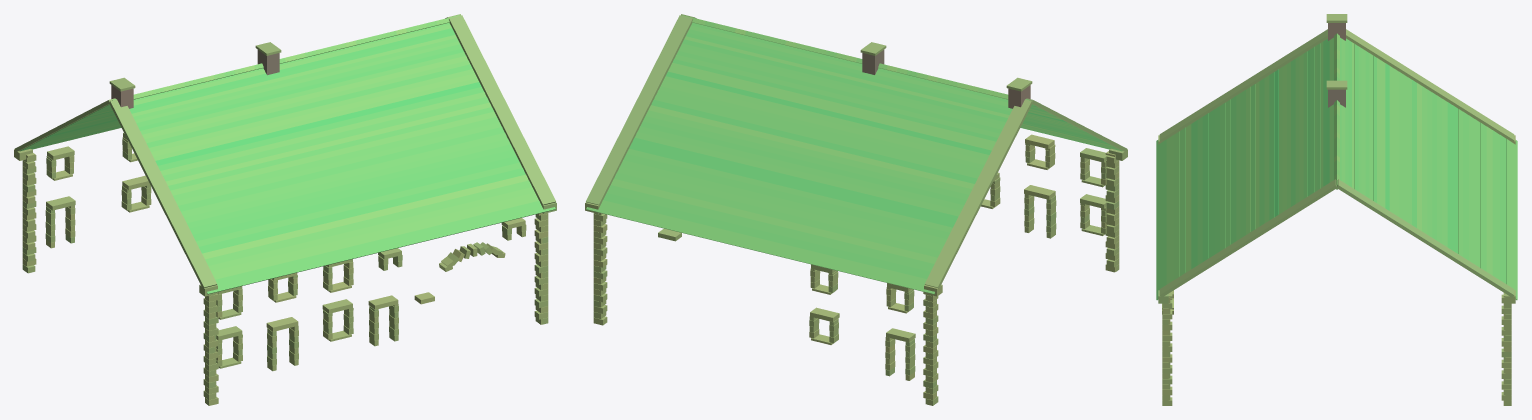
The model's file is SM_Bld_023_Stone.glb.
3 renders of one model, left to right at view 1: azimuth 30°, elevation 25°; view 2: azimuth 150°, elevation 25°; view 3: azimuth 270°, elevation 25°, orthographic. The views are drawn at different scales.
Visible parts, largest first — view 1: SM_Bld_023_Stone; view 2: SM_Bld_023_Stone; view 3: SM_Bld_023_Stone.
Part boxes in pixels (<box>): SM_Bld_023_Stone: <box>14,14,556,405</box>; SM_Bld_023_Stone: <box>585,14,1127,405</box>; SM_Bld_023_Stone: <box>1156,14,1517,405</box>.
Size of the model in its own units: 19.14 by 13.12 by 18.15.
